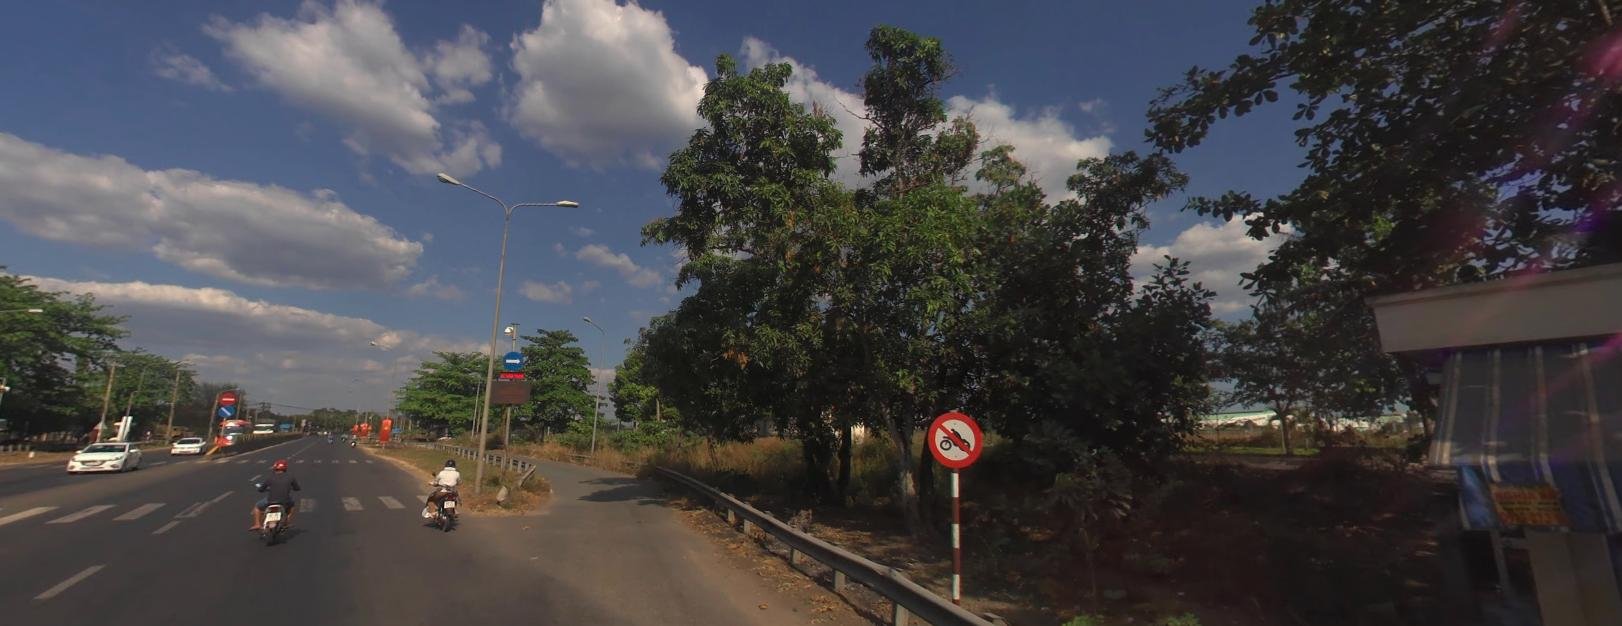Cam con lai: (927, 408, 984, 466)
Cam nguoc chieu: (219, 391, 234, 403)
Hieu lenh: (502, 349, 523, 368), (218, 403, 235, 415)
